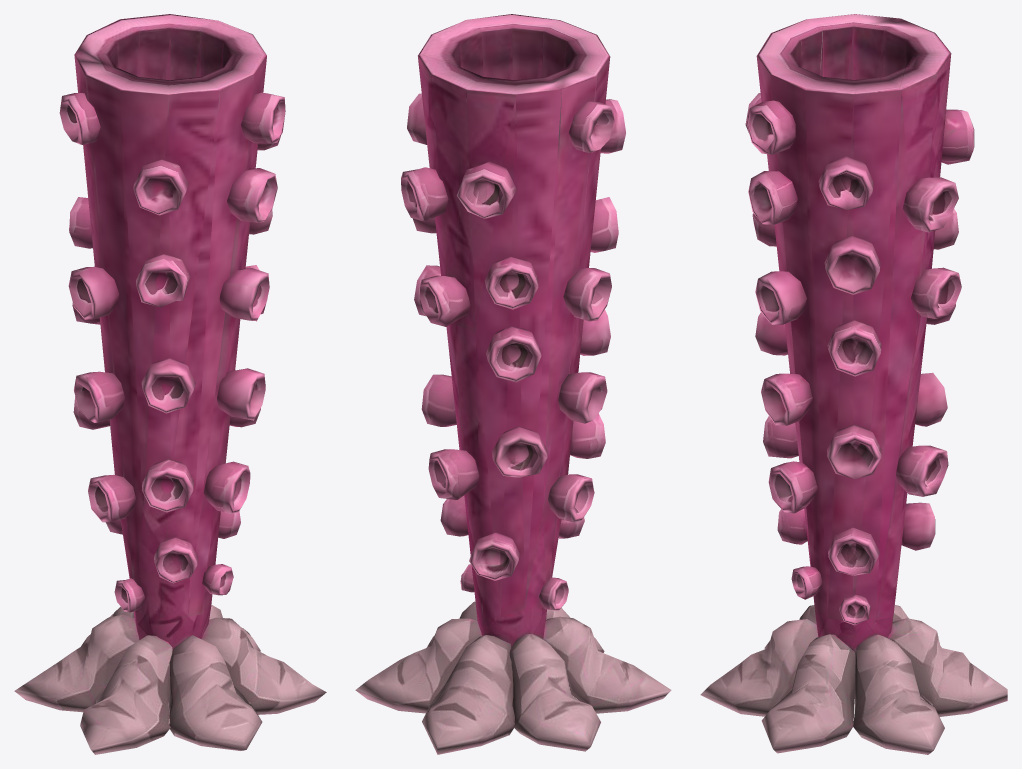
Rendered from Pink_Coral_Spire.glb.
3 renders of one model, left to right at view 1: azimuth 30°, elevation 25°; view 2: azimuth 150°, elevation 25°; view 3: azimuth 270°, elevation 25°, orthographic.
Size of the model in its own units: 0.3857 by 1 by 0.4307.
Materials: 1 (1 with a texture image).
